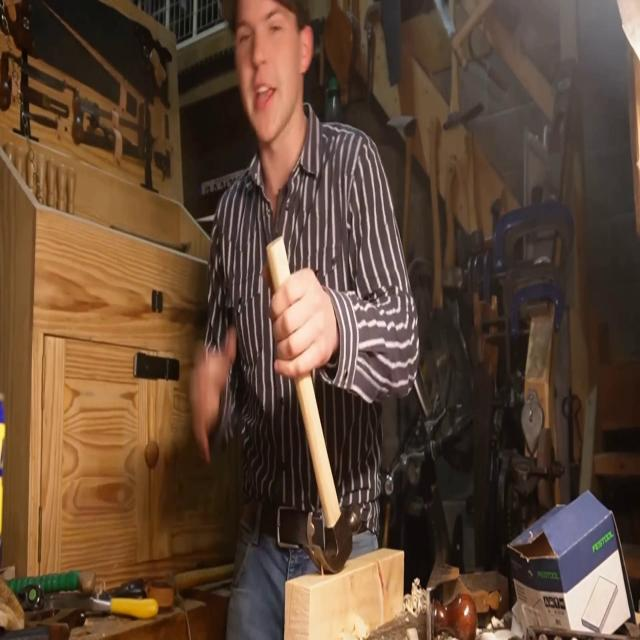hammer: (266, 235, 361, 576)
